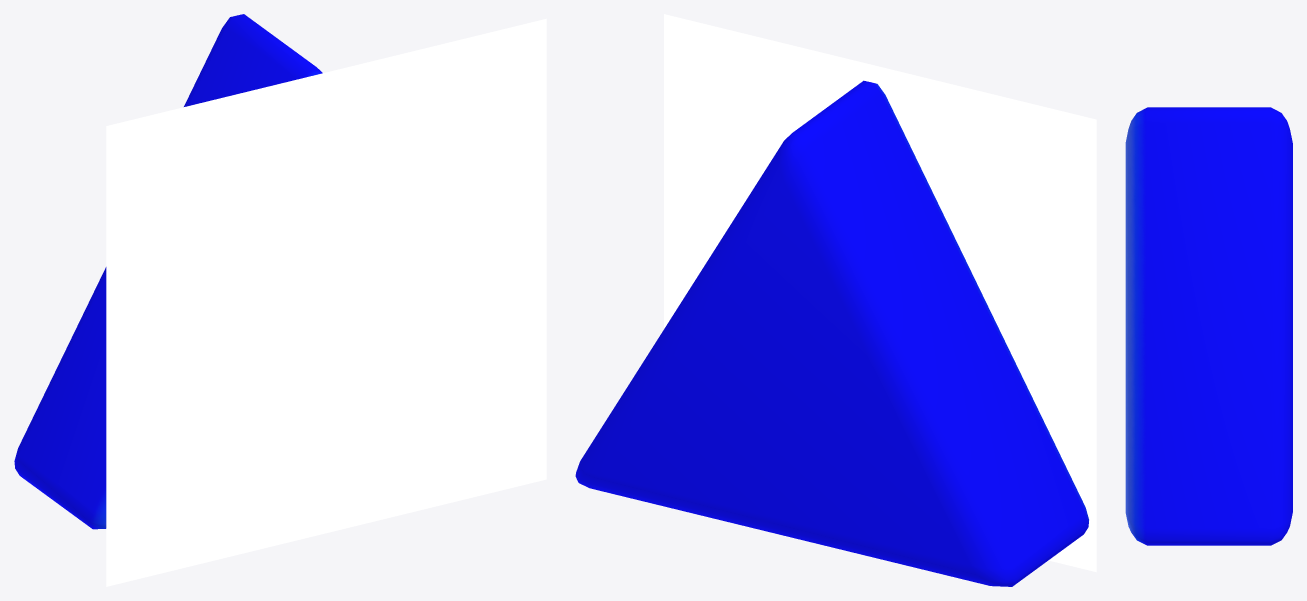
File: triangleBTN_HighColor.glb
The picture shows the model from 3 angles, left to right: view 1: azimuth 30°, elevation 25°; view 2: azimuth 150°, elevation 25°; view 3: azimuth 270°, elevation 25°; orthographic projection. The views are drawn at different scales.
Parts seen in each view (by area): view 1: BTN_三角01.001, Cylinder.004; view 2: Cylinder.004, BTN_三角01.001; view 3: Cylinder.004.
Boxes of the visible parts, <box> form: BTN_三角01.001: <box>106,18,546,586</box>; Cylinder.004: <box>14,14,322,529</box>; Cylinder.004: <box>575,80,1088,586</box>; BTN_三角01.001: <box>664,14,1096,572</box>; Cylinder.004: <box>1125,107,1292,545</box>.
Size of the model in its own units: 0.9885 by 0.9706 by 0.3777.
2 materials, 2 textured.
